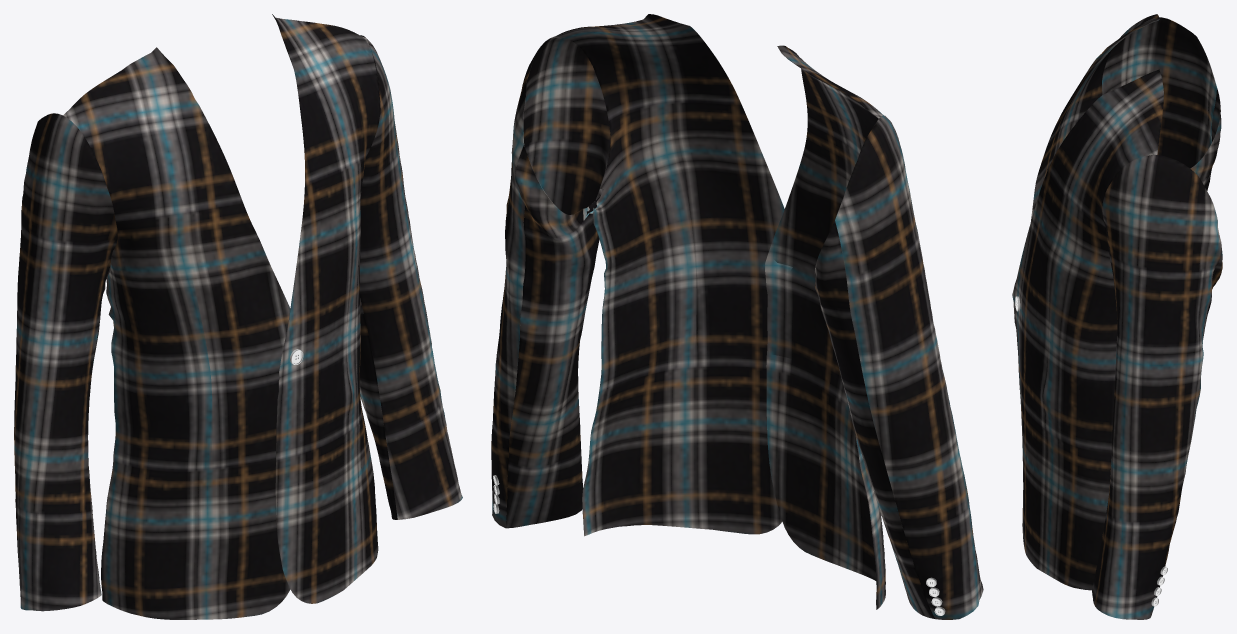
3 renders of one model, left to right at view 1: azimuth 30°, elevation 25°; view 2: azimuth 150°, elevation 25°; view 3: azimuth 270°, elevation 25°, orthographic. The views are drawn at different scales.
Parts seen in each view (by area): view 1: jacket (×5); view 2: jacket (×6); view 3: jacket (×5).
Boxes of the visible parts, x1=… form: jacket (×5): x1=14, y1=14, x2=462, y2=619; jacket (×6): x1=491, y1=14, x2=983, y2=619; jacket (×5): x1=1012, y1=14, x2=1221, y2=619.
Size of the model in its own units: 629 by 724 by 277.
Materials: 15 (15 with a texture image).
